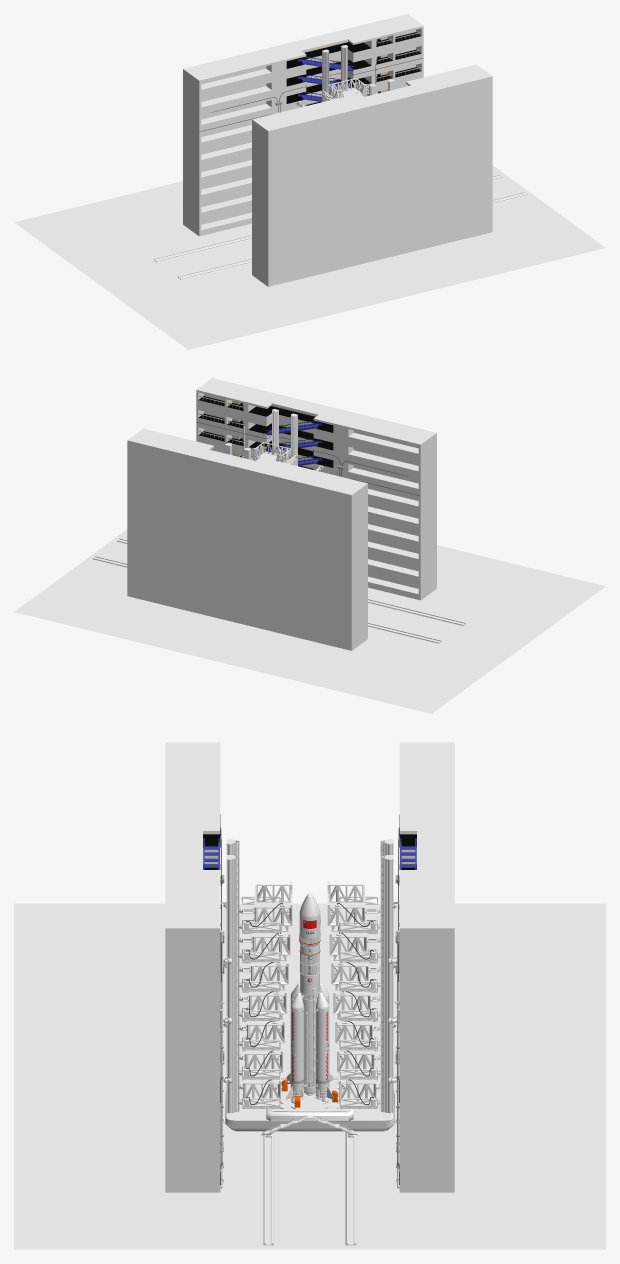
Rendered from Rocket.glb.
3 renders of one model, top to bottom at view 1: azimuth 30°, elevation 25°; view 2: azimuth 150°, elevation 25°; view 3: azimuth 270°, elevation 25°, orthographic. The views are drawn at different scales.
Visible parts, largest first — view 1: object 108, Body_1.001, Body_1, Body_0, object 109, object 104, object 62, object 65; view 2: object 108, Body_1.001, Body_1, Body_0, object 109, object 104, object 62, object 65; view 3: object 108, Body_0, object 62, Body_1, Body_1.001, object 65, object 68, object 60, object 66, object 25, object 53, object 109 (+6 smaller).
Part boxes in pixels (left/top/right/bottom): object 108: left=14, top=165, right=605, bottom=349; Body_1.001: left=183, top=48, right=352, bottom=286; Body_1: left=268, top=26, right=443, bottom=265; Body_0: left=358, top=14, right=492, bottom=243; object 109: left=154, top=174, right=527, bottom=279; object 104: left=298, top=56, right=355, bottom=101; object 62: left=328, top=78, right=378, bottom=98; object 65: left=322, top=45, right=394, bottom=101; object 108: left=14, top=529, right=605, bottom=713; Body_1.001: left=267, top=412, right=436, bottom=650; Body_1: left=176, top=390, right=351, bottom=629; Body_0: left=127, top=378, right=261, bottom=607; object 109: left=92, top=538, right=465, bottom=643; object 104: left=264, top=420, right=321, bottom=465; object 62: left=241, top=442, right=291, bottom=462; object 65: left=225, top=409, right=297, bottom=465; object 108: left=14, top=903, right=605, bottom=1249; Body_0: left=165, top=887, right=454, bottom=1192; object 62: left=243, top=881, right=376, bottom=1101; Body_1: left=165, top=812, right=454, bottom=887; Body_1.001: left=165, top=742, right=454, bottom=812; object 65: left=226, top=839, right=393, bottom=1113; object 68: left=241, top=896, right=378, bottom=1106; object 60: left=242, top=904, right=377, bottom=1108; object 66: left=234, top=840, right=385, bottom=1112; object 25: left=290, top=983, right=329, bottom=1090; object 53: left=225, top=1088, right=394, bottom=1131; object 109: left=263, top=1131, right=356, bottom=1245.
Bounding box in the file's own units: 202 × 73.89 × 146.
Materials: 42 (4 with a texture image).
